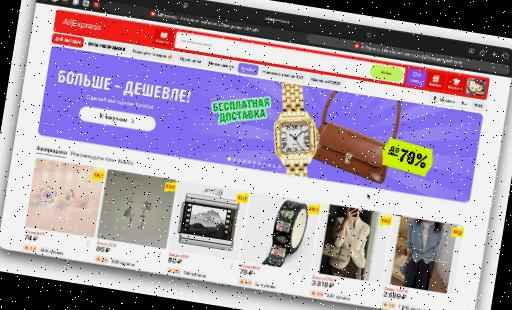aliexpress: (0, 3, 512, 310)
